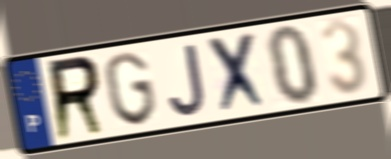0: (262, 23, 322, 108)
3: (321, 15, 368, 100)
G: (101, 48, 160, 128)
J: (167, 41, 208, 119)
R: (46, 52, 108, 145)
X: (205, 28, 271, 119)
